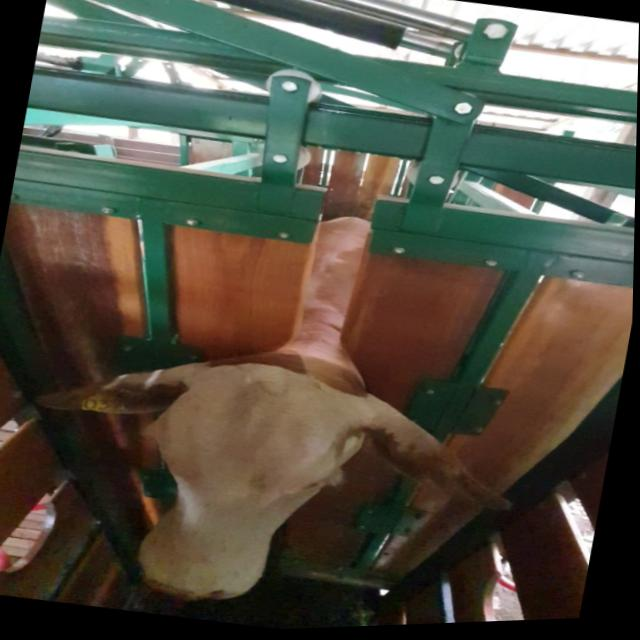cowFace: (126, 350, 355, 620)
